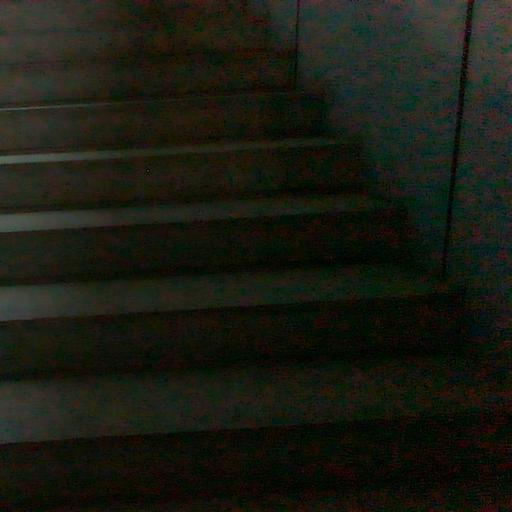stairs: (0, 0, 510, 509)
